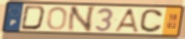3: (94, 7, 115, 33)
A: (112, 8, 140, 34)
C: (139, 9, 164, 34)
D: (19, 5, 47, 31)
N: (66, 6, 98, 33)
O: (46, 6, 69, 32)
